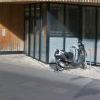Motorcycle: (45, 43, 90, 71)
